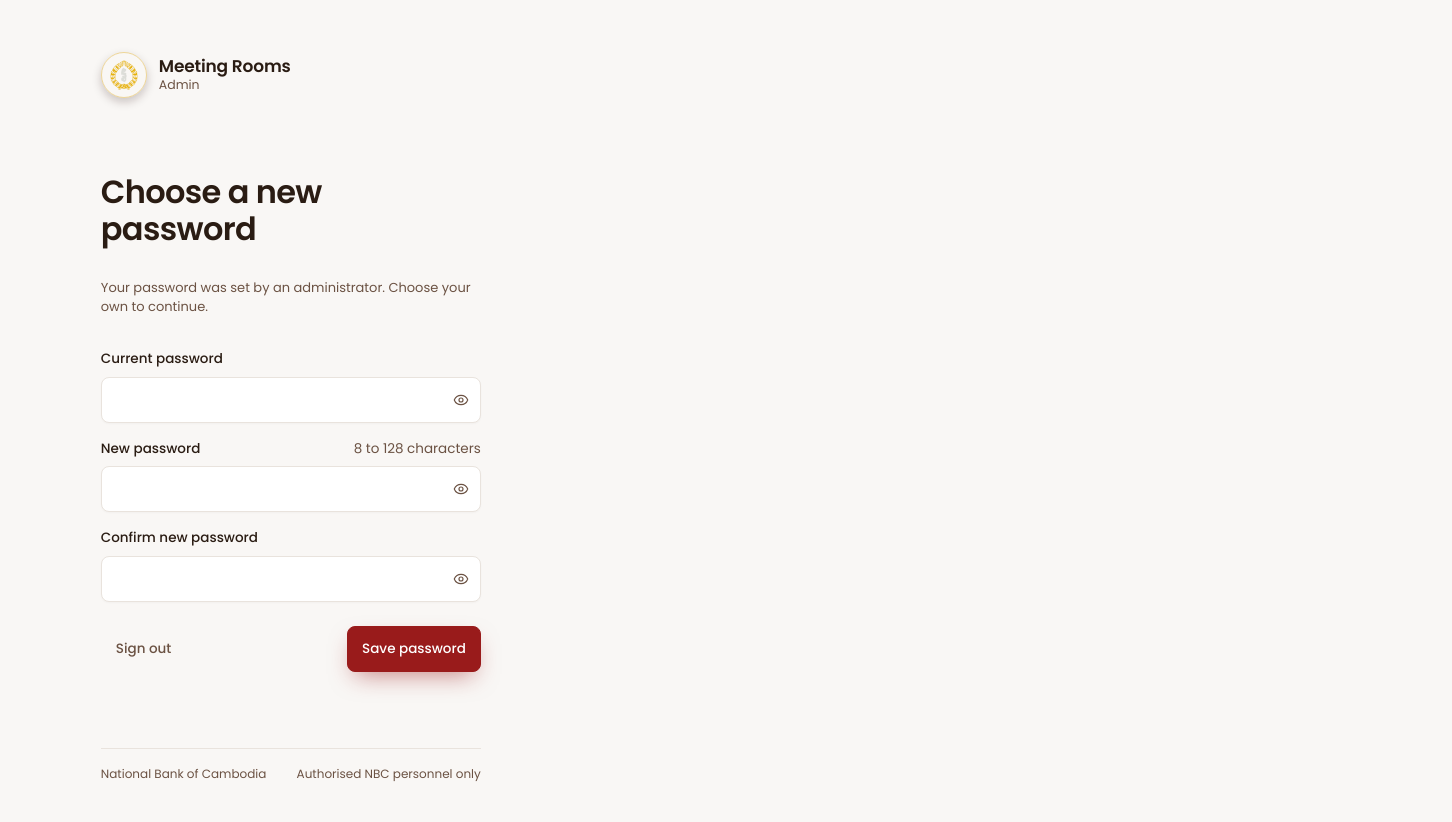
Test case: ChangePasswordView › shows an API rule under "New password"
Step 1. Type "old password" into the password field with id "current_password" → (291, 400), box top-left (101, 377), bottom-right (481, 423)
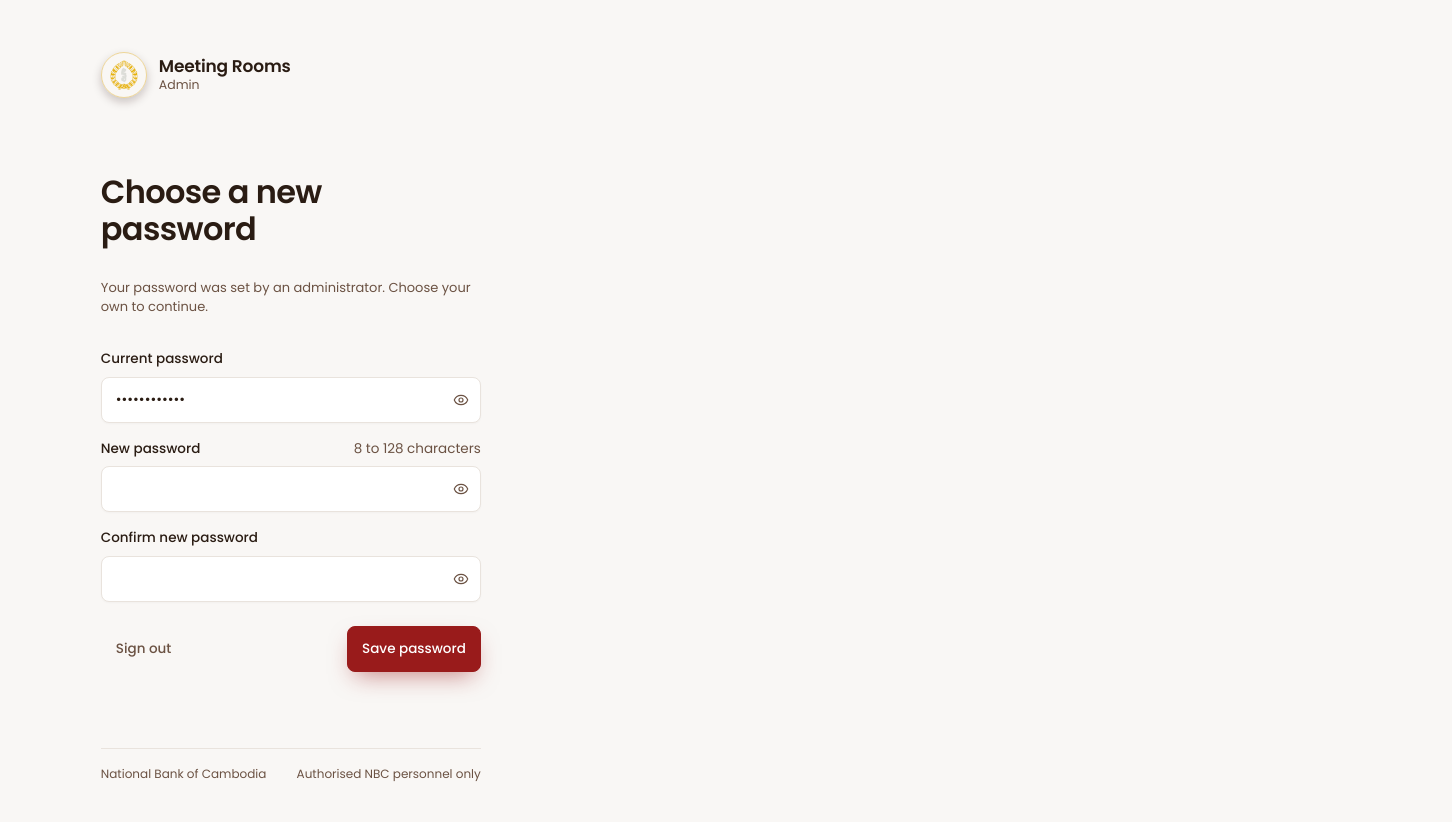
Step 2. Type "a new password" into the password field with id "new_password" → (291, 489), box top-left (101, 466), bottom-right (481, 512)
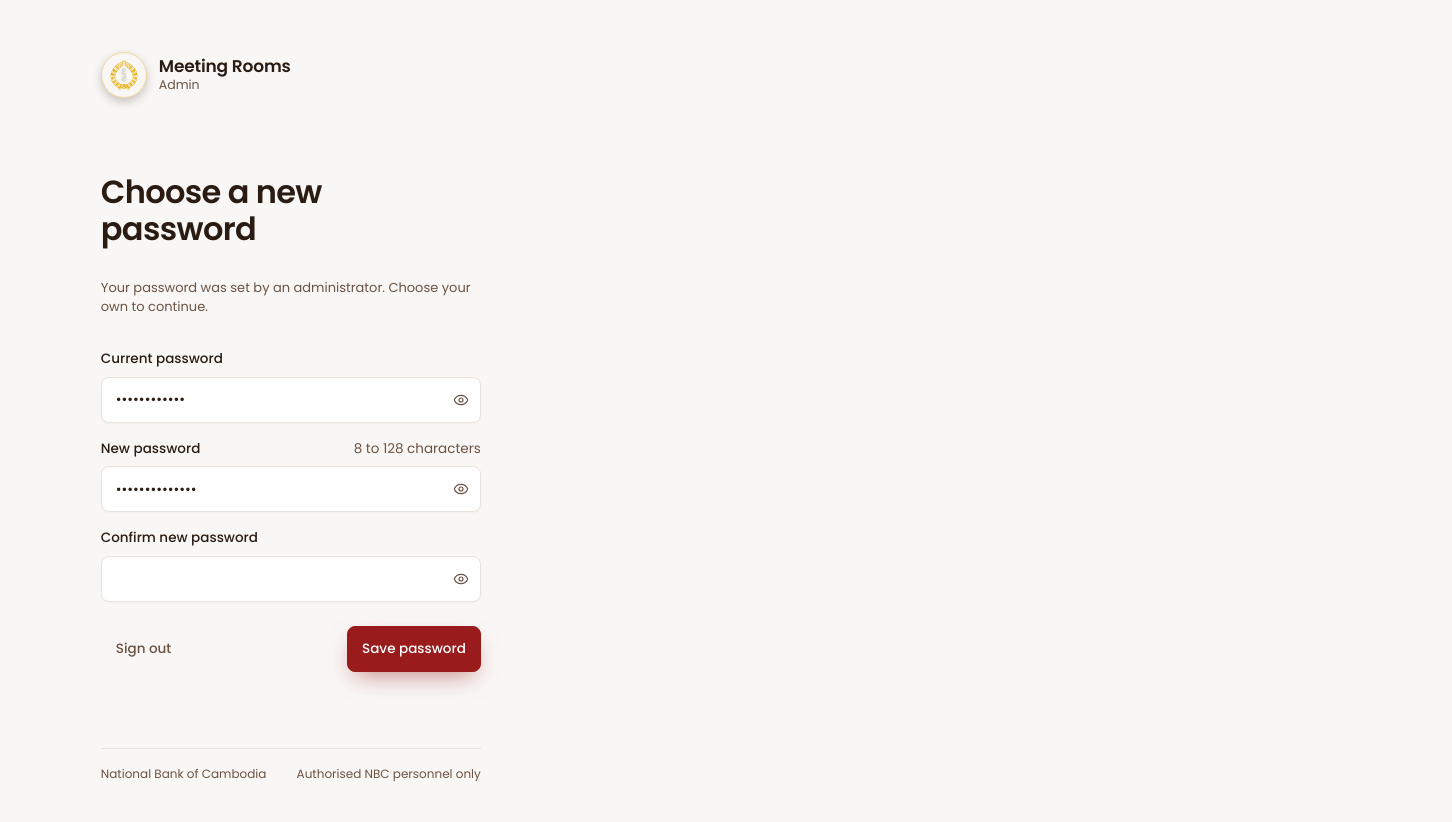
Step 3. Type "a new password" into the password field with id "confirm_password" → (291, 579), box top-left (101, 556), bottom-right (481, 602)
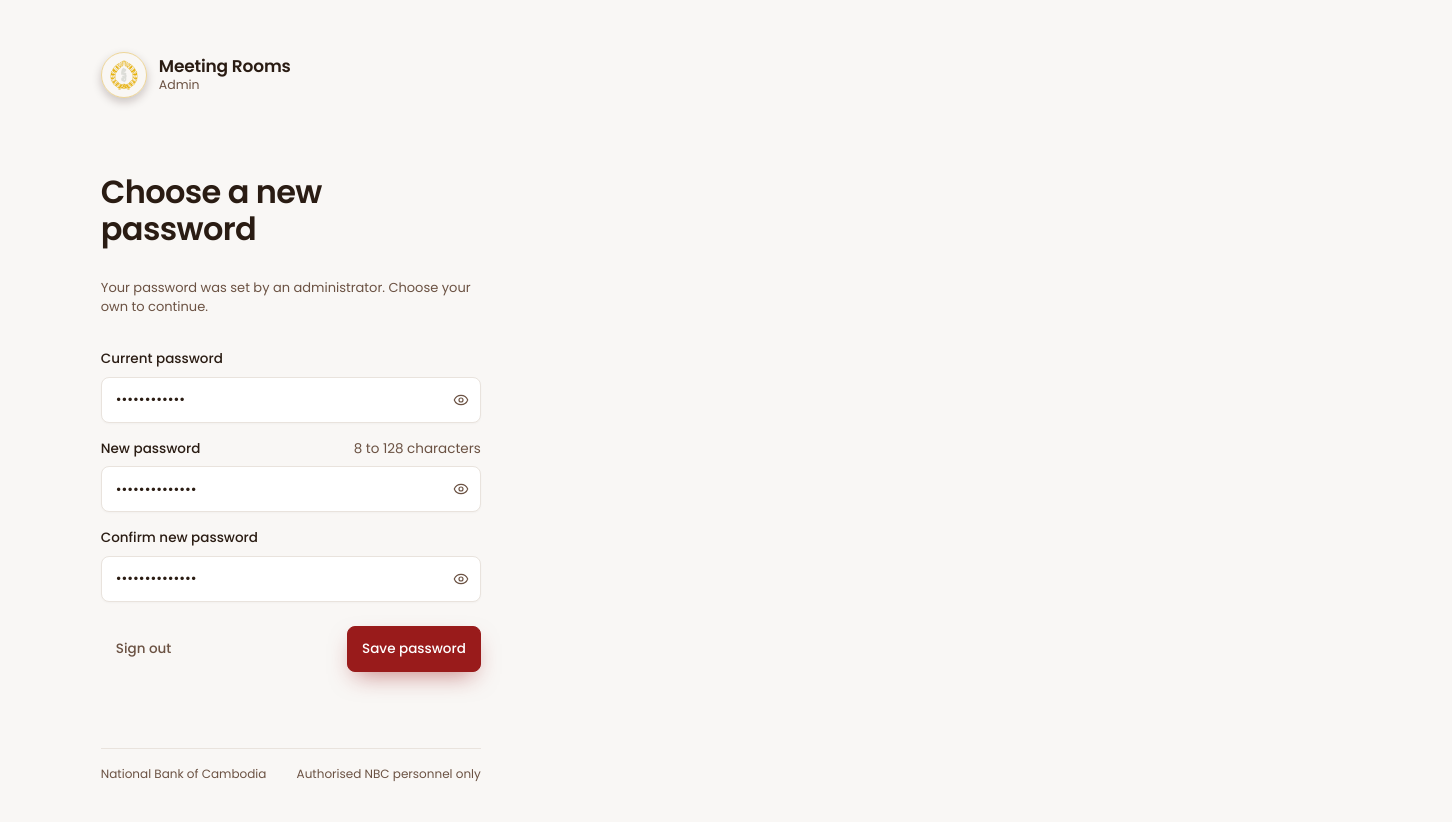
Step 4. Submit the form, box top-left (101, 349), bottom-right (481, 672)
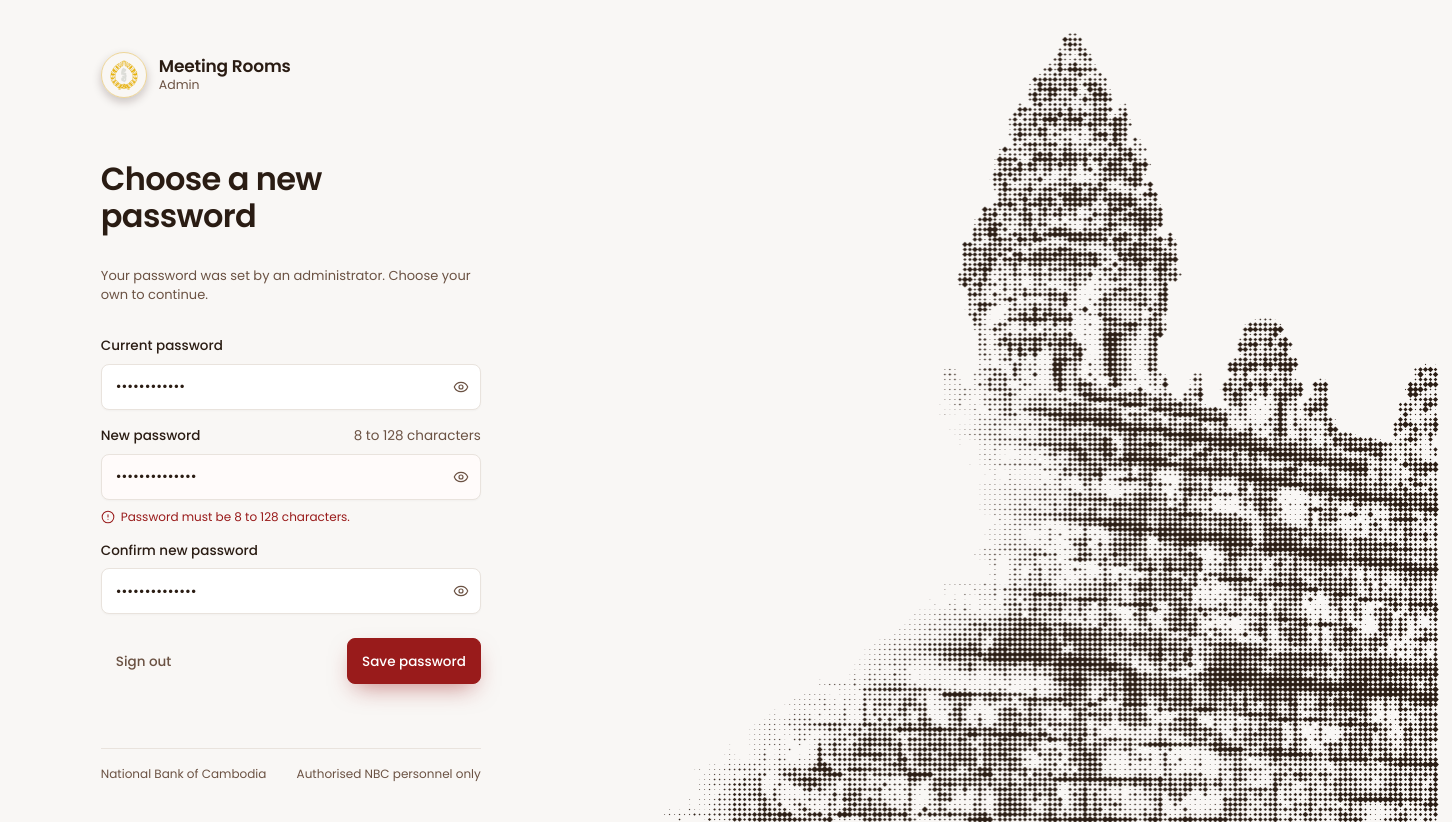
Check: the element with id "new_password-error" reads "Password must be 8 to 128 characters.", box top-left (121, 508), bottom-right (350, 524)
